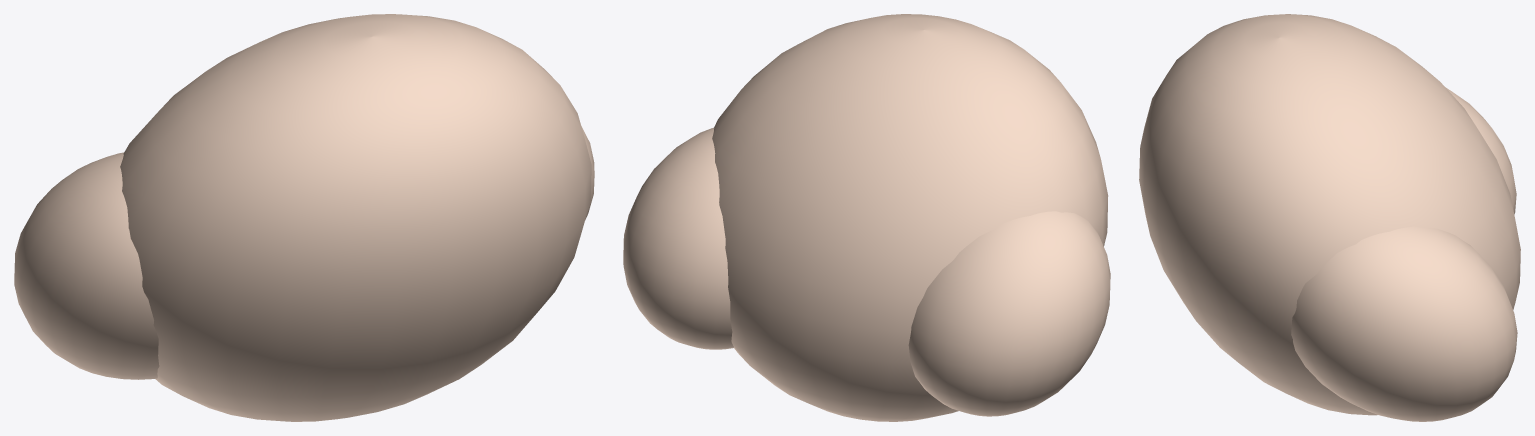
The model's file is male_nose_ref02_v5.glb.
3 renders of one model, left to right at view 1: azimuth 30°, elevation 25°; view 2: azimuth 150°, elevation 25°; view 3: azimuth 270°, elevation 25°, orthographic. The views are drawn at different scales.
Parts seen in each view (by area): view 1: Nose_Tip, Nose_Wing_-1; view 2: Nose_Tip, Nose_Wing_-1, Nose_Wing_1; view 3: Nose_Tip, Nose_Wing_1, Nose_Wing_-1.
Boxes of the visible parts, left/top/right/bottom form: Nose_Tip: left=120, top=14, right=591, bottom=421; Nose_Wing_-1: left=14, top=152, right=159, bottom=379; Nose_Tip: left=712, top=14, right=1108, bottom=421; Nose_Wing_-1: left=908, top=211, right=1110, bottom=416; Nose_Wing_1: left=623, top=127, right=733, bottom=349; Nose_Tip: left=1139, top=14, right=1520, bottom=415; Nose_Wing_1: left=1291, top=226, right=1517, bottom=421; Nose_Wing_-1: left=1445, top=87, right=1516, bottom=214.
Size of the model in its own units: 0.0502 by 0.036 by 0.0352.
